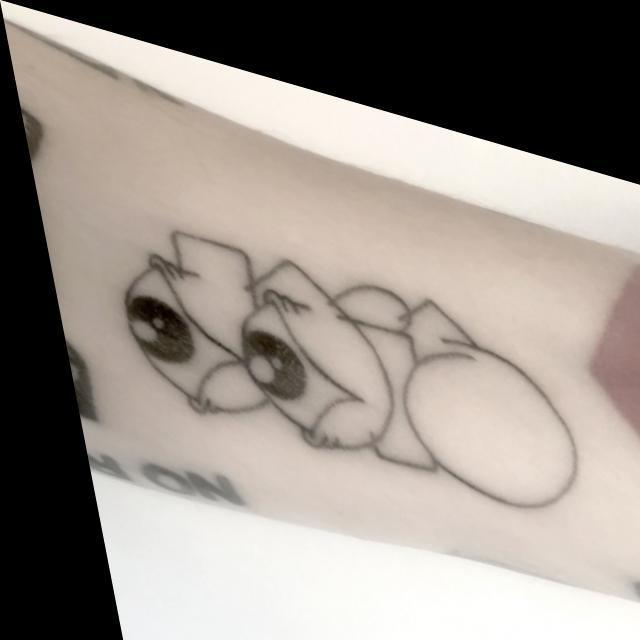-: (80, 183, 586, 515)
